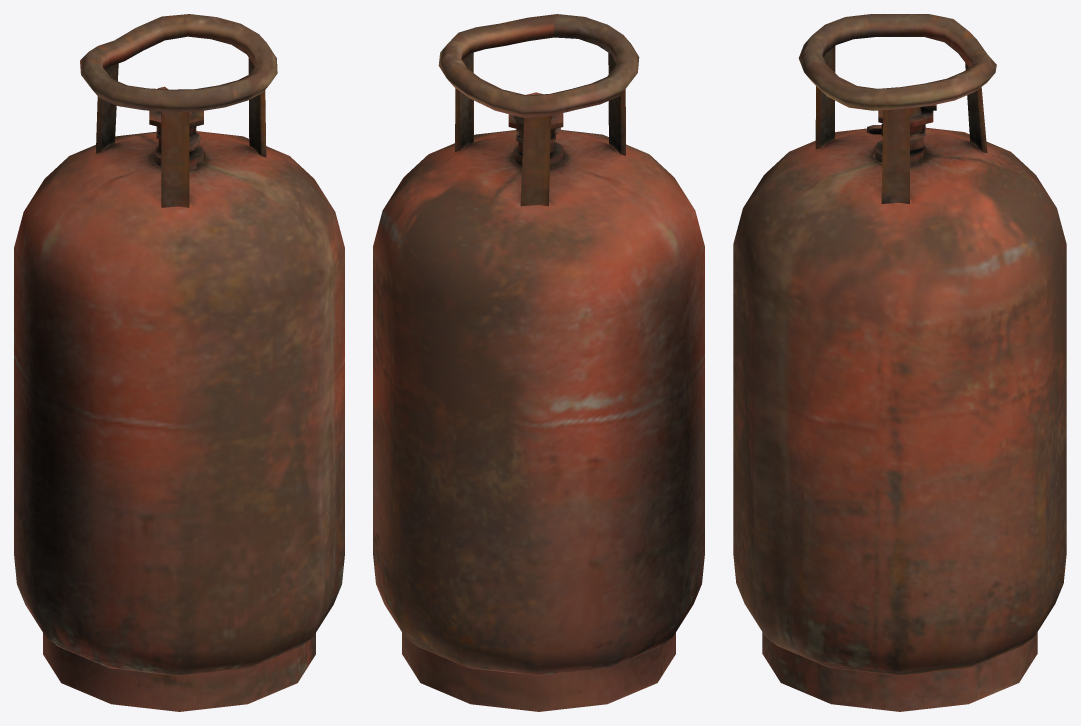
Rendered from LPGCylinder_Broken.FBX.
3 views of the same model, side by side, from view 1: azimuth 30°, elevation 25°; view 2: azimuth 150°, elevation 25°; view 3: azimuth 270°, elevation 25° (orthographic).
Parts seen in each view (by area): view 1: LPGCylinder_Broken; view 2: LPGCylinder_Broken; view 3: LPGCylinder_Broken.
Boxes of the visible parts, x1,y1,x2,y2 form: LPGCylinder_Broken: (14, 14, 344, 711); LPGCylinder_Broken: (373, 14, 704, 711); LPGCylinder_Broken: (733, 14, 1066, 711).
Bounding box in the file's own units: 42.38 × 85.06 × 42.38.
